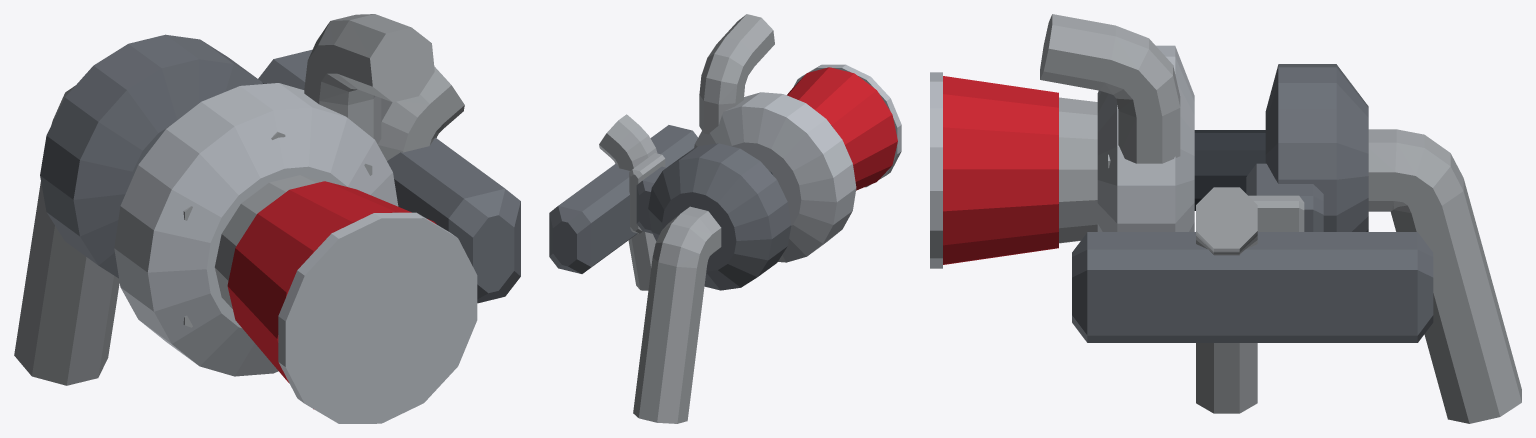
File: hana_roadster.glb
3 views of the same model, side by side, from view 1: azimuth 30°, elevation 25°; view 2: azimuth 150°, elevation 25°; view 3: azimuth 270°, elevation 25° (orthographic). The views are drawn at different scales.
Parts seen in each view (by area): view 1: model; view 2: model; view 3: model.
Part boxes in pixels (x1=…): model: x1=14, y1=14, x2=520, y2=423; model: x1=549, y1=14, x2=901, y2=423; model: x1=930, y1=14, x2=1521, y2=423.
Size of the model in its own units: 0.2882 by 0.3681 by 0.4587.
Materials: 2 (1 with a texture image).
